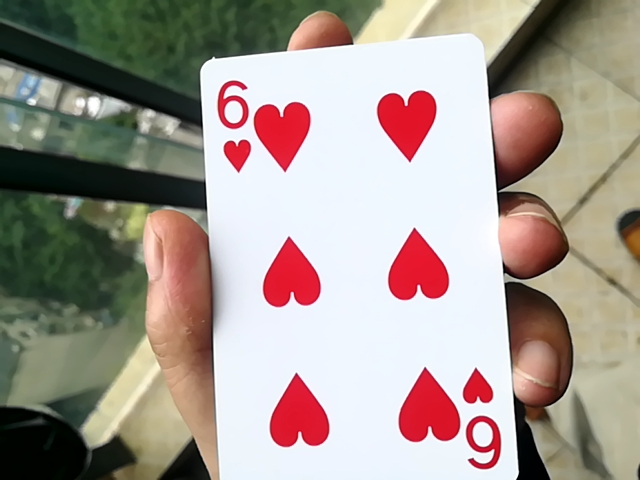hx 6: (194, 40, 529, 478)
